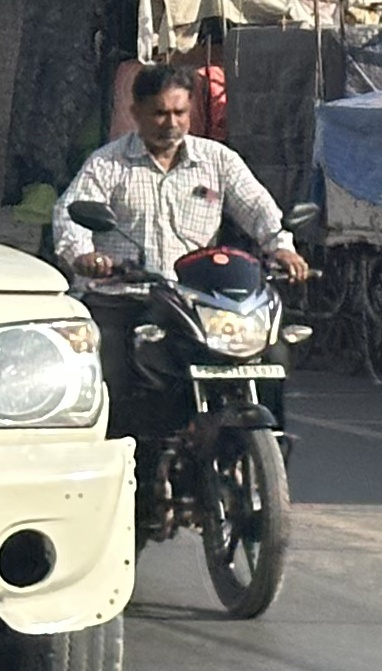BikeWithRider: (43, 57, 332, 626)
NoHelmet: (118, 59, 206, 153)
